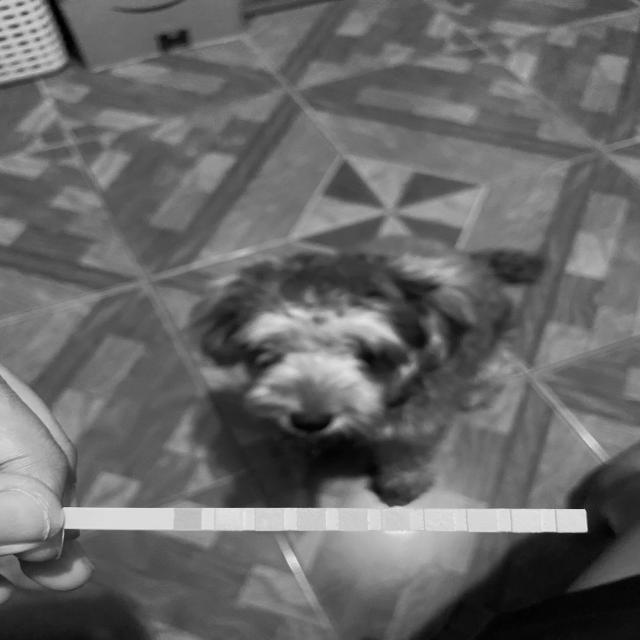Bilirubin: (217, 510, 241, 529)
Blood: (342, 510, 366, 529)
Glucose: (176, 510, 199, 529)
Ketone: (258, 510, 282, 530)
Leukocytes: (560, 511, 584, 531)
Nitrite: (515, 511, 539, 531)
Protein: (427, 510, 451, 530)
SpGravity: (299, 510, 324, 530)
Urobilinogen: (470, 510, 497, 531)
background: (0, 0, 640, 640)
pH: (383, 510, 409, 529)
strip: (69, 508, 587, 532)
